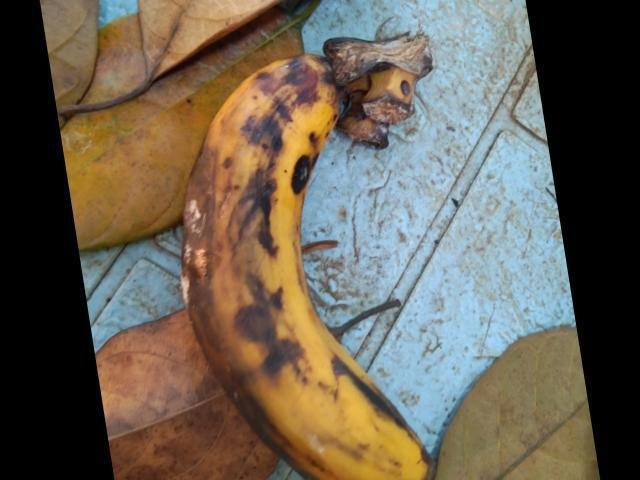rotten: (154, 37, 452, 479)
